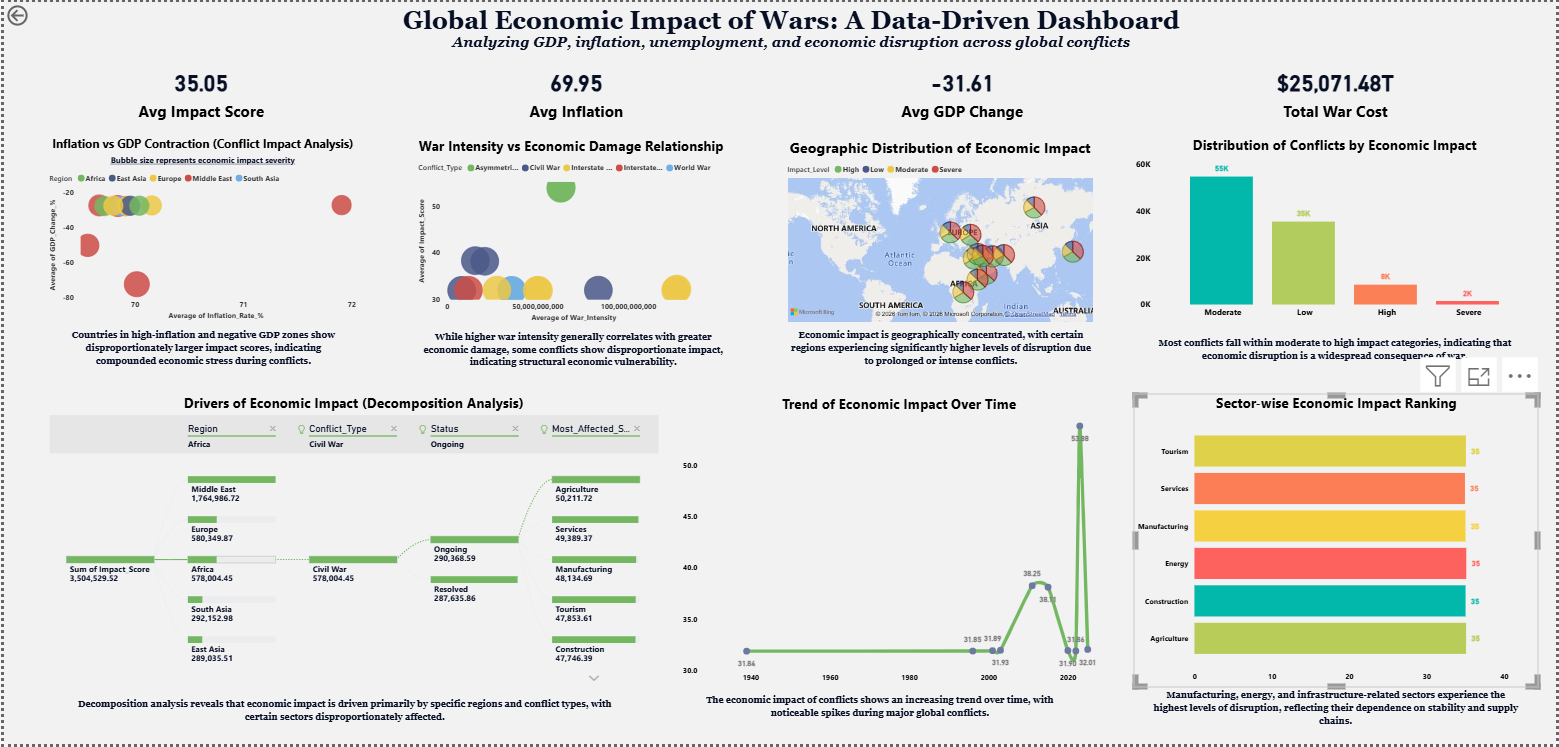

What the dashboard file says about the page in this screenshot:
{"tool":"powerbi","page":{"name":"Executive Overview","canvas":[2300,1100],"ordinal":0},"visuals":[{"type":"scatterChart","title":"Inflation vs GDP Contraction (Conflict Impact Analysis)","fields":{"X":["Avg(war_economic_impact_dataset.Inflation_Rate_%)"],"Y":["Avg(war_economic_impact_dataset.GDP_Change_%)"],"Size":["Avg(war_economic_impact_dataset.Impact_Score)"],"Series":["war_economic_impact_dataset.Region"],"Category":["war_economic_impact_dataset.Primary_Country"]},"box":[61.5,198.9,464.7,278.5],"z":0},{"type":"textbox","box":[85.8,477.4,417.8,68],"z":1000},{"type":"actionButton","box":[0,0,100,40],"z":2000},{"type":"scatterChart","title":"War Intensity vs Economic Damage Relationship","fields":{"X":["Avg(war_economic_impact_dataset.War_Intensity)"],"Y":["Avg(war_economic_impact_dataset.Impact_Score)"],"Size":["Avg(war_economic_impact_dataset.Cost_of_War_USD)"],"Series":["war_economic_impact_dataset.Conflict_Type"],"Category":["war_economic_impact_dataset.Primary_Country"]},"box":[609.5,199.3,463.3,278.9],"z":3000},{"type":"map","title":"Geographic Distribution of Economic Impact","fields":{"Category":["war_economic_impact_dataset.Primary_Country"],"Size":["Avg(war_economic_impact_dataset.Impact_Score)"],"Series":["war_economic_impact_dataset.Impact_Level"]},"box":[1156.1,199.3,463.3,278.9],"z":4000},{"type":"textbox","box":[611.9,479.9,465.1,69.3],"z":5000},{"type":"textbox","box":[1156.1,478.1,465.5,67.5],"z":6000},{"type":"decompositionTreeVisual","title":"Drivers of Economic Impact (Decomposition Analysis)","fields":{"Analyze":["Sum(war_economic_impact_dataset.Impact_Score)"],"ExplainBy":["war_economic_impact_dataset.Region","war_economic_impact_dataset.Conflict_Type","war_economic_impact_dataset.Status","war_economic_impact_dataset.Most_Affected_Sector"]},"box":[61.8,581.3,912.8,442.8],"z":7000},{"type":"textbox","box":[103.9,1024.2,801.5,64.3],"z":8000},{"type":"card","fields":{"Values":["Avg(war_economic_impact_dataset.Impact_Score)"]},"box":[170,80,246.7,106.7],"z":9000},{"type":"card","fields":{"Values":["Avg(war_economic_impact_dataset.Inflation_Rate_%)"]},"box":[704.4,80,286.7,106.7],"z":10000},{"type":"card","fields":{"Values":["Avg(war_economic_impact_dataset.GDP_Change_%)"]},"box":[1278.9,80,283.3,106.7],"z":11000},{"type":"card","fields":{"Values":["Sum(war_economic_impact_dataset.Cost_of_War_USD)"]},"box":[1850,80,246.7,106.7],"z":12000},{"type":"textbox","box":[63.3,0,2210,90],"z":13000},{"type":"lineChart","title":"Trend of Economic Impact Over Time","fields":{"Category":["war_economic_impact_dataset.Start_Year"],"Y":["Avg(war_economic_impact_dataset.Impact_Score)"]},"box":[1001.3,582.3,653,435.3],"z":14000},{"type":"textbox","box":[1025.8,1017.6,546.9,70.7],"z":15000},{"type":"clusteredColumnChart","title":"Distribution of Conflicts by Economic Impact","fields":{"Category":["war_economic_impact_dataset.Impact_Level"],"Y":["CountNonNull(war_economic_impact_dataset.Conflict_Name)"]},"box":[1673.3,198.6,601.3,280.2],"z":16000},{"type":"textbox","box":[1673.3,490,601.7,60],"z":17000},{"type":"clusteredBarChart","title":"Sector-wise Economic Impact Ranking","fields":{"Category":["war_economic_impact_dataset.Most_Affected_Sector"],"Y":["Avg(war_economic_impact_dataset.Impact_Score)"]},"box":[1674,580,602,436],"z":18000},{"type":"textbox","box":[1692,1012,564,76],"z":19000}]}

Visuals, with their boxes in screenshot pixels (x1, y1, x2, y2), scaled from the page's 2300x1100 canvas onto the 1559x747 screenshot:
"Inflation vs GDP Contraction (Conflict Impact Analysis)" scatterChart: {"x1": 42, "y1": 135, "x2": 357, "y2": 324}
textbox: {"x1": 58, "y1": 324, "x2": 341, "y2": 370}
actionButton: {"x1": 0, "y1": 0, "x2": 68, "y2": 27}
"War Intensity vs Economic Damage Relationship" scatterChart: {"x1": 413, "y1": 135, "x2": 727, "y2": 325}
"Geographic Distribution of Economic Impact" map: {"x1": 784, "y1": 135, "x2": 1098, "y2": 325}
textbox: {"x1": 415, "y1": 326, "x2": 730, "y2": 373}
textbox: {"x1": 784, "y1": 325, "x2": 1099, "y2": 371}
"Drivers of Economic Impact (Decomposition Analysis)" decompositionTreeVisual: {"x1": 42, "y1": 395, "x2": 661, "y2": 695}
textbox: {"x1": 70, "y1": 696, "x2": 614, "y2": 739}
card - Avg(war_economic_impact_dataset.Impact_Score): {"x1": 115, "y1": 54, "x2": 282, "y2": 127}
card - Avg(war_economic_impact_dataset.Inflation_Rate_%): {"x1": 477, "y1": 54, "x2": 672, "y2": 127}
card - Avg(war_economic_impact_dataset.GDP_Change_%): {"x1": 867, "y1": 54, "x2": 1059, "y2": 127}
card - Sum(war_economic_impact_dataset.Cost_of_War_USD): {"x1": 1254, "y1": 54, "x2": 1421, "y2": 127}
textbox: {"x1": 43, "y1": 0, "x2": 1541, "y2": 61}
"Trend of Economic Impact Over Time" lineChart: {"x1": 679, "y1": 395, "x2": 1121, "y2": 691}
textbox: {"x1": 695, "y1": 691, "x2": 1066, "y2": 739}
"Distribution of Conflicts by Economic Impact" clusteredColumnChart: {"x1": 1134, "y1": 135, "x2": 1542, "y2": 325}
textbox: {"x1": 1134, "y1": 333, "x2": 1542, "y2": 374}
"Sector-wise Economic Impact Ranking" clusteredBarChart: {"x1": 1135, "y1": 394, "x2": 1543, "y2": 690}
textbox: {"x1": 1147, "y1": 687, "x2": 1529, "y2": 739}
